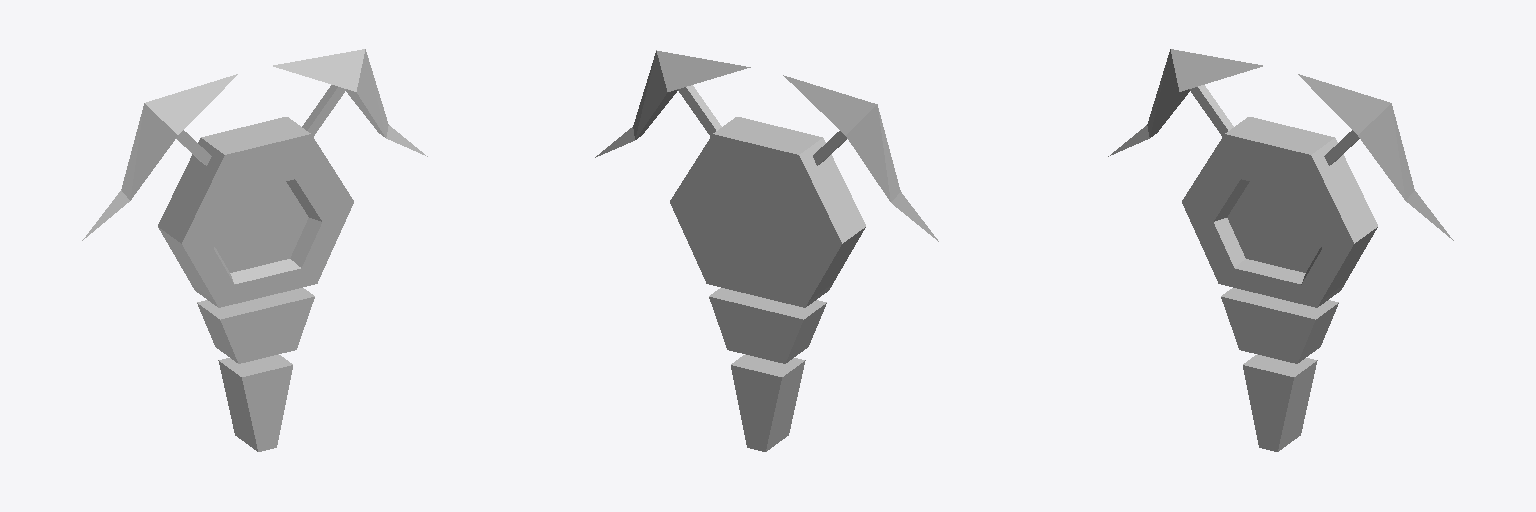
Rendered from PopEnemy_Model.obj.
The picture shows the model from 3 angles: view 1: azimuth 30°, elevation 25°; view 2: azimuth 150°, elevation 25°; view 3: azimuth 330°, elevation 25°; orthographic projection.
Visible parts, largest first — view 1: PopEnemy_Mesh PopEnemy_Mesh_grp; view 2: PopEnemy_Mesh PopEnemy_Mesh_grp; view 3: PopEnemy_Mesh PopEnemy_Mesh_grp.
Part boxes in pixels (x1,y1,x2,y2): PopEnemy_Mesh PopEnemy_Mesh_grp: (82, 49, 427, 451); PopEnemy_Mesh PopEnemy_Mesh_grp: (595, 50, 938, 451); PopEnemy_Mesh PopEnemy_Mesh_grp: (1108, 49, 1453, 451).
Size of the model in its own units: 22.47 by 22.98 by 2.71.